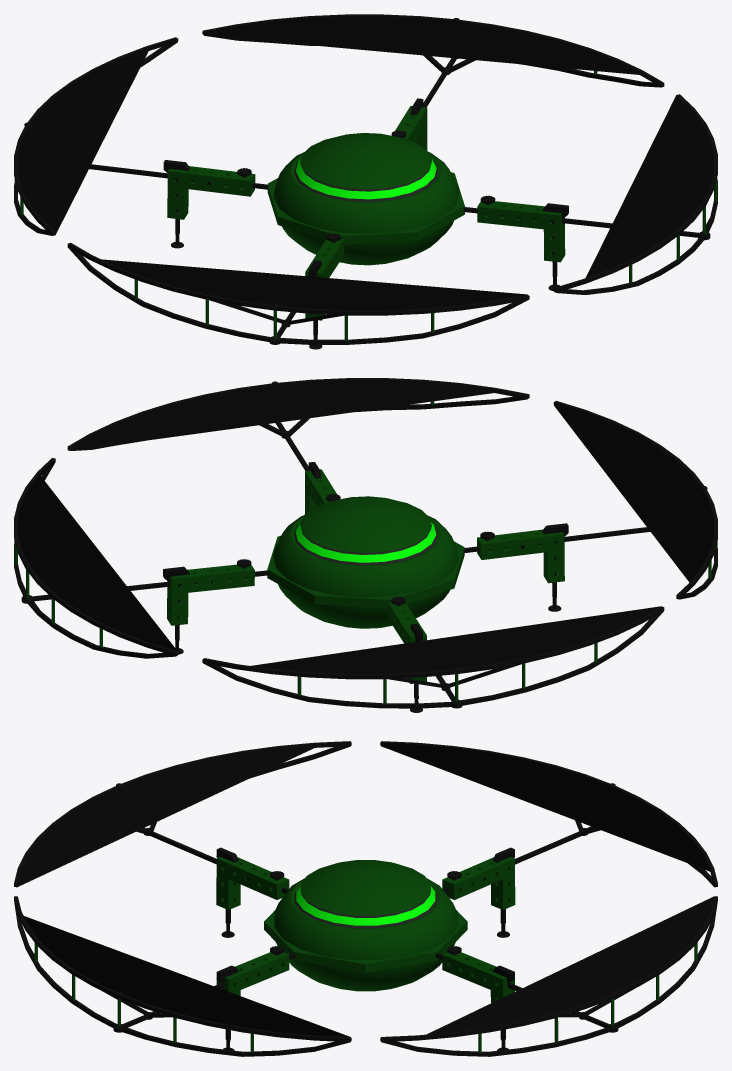
The model's file is camo_drone.obj.
3 views of the same model, one above another, from view 1: azimuth 30°, elevation 25°; view 2: azimuth 150°, elevation 25°; view 3: azimuth 270°, elevation 25° (orthographic).
Parts seen in each view (by area): view 1: polySurface341 polySurface565, polySurface341 polySurface479, polySurface341 polySurface467, polySurface341 polySurface569, polySurface341 polySurface581, polySurface341 polySurface466, polySurface341 polySurface563, polySurface341 polySurface580, polySurface341 polySurface478, polySurface341 polySurface568; view 2: polySurface341 polySurface565, polySurface341 polySurface581, polySurface341 polySurface569, polySurface341 polySurface467, polySurface341 polySurface479, polySurface341 polySurface568, polySurface341 polySurface563, polySurface341 polySurface478, polySurface341 polySurface580; view 3: polySurface341 polySurface565, polySurface341 polySurface569, polySurface341 polySurface467, polySurface341 polySurface479, polySurface341 polySurface581, polySurface341 polySurface563, polySurface341 polySurface478, polySurface341 polySurface580.
Boxes of the visible parts, x1,y1,x2,y2 form: polySurface341 polySurface565: (273,133,458,265); polySurface341 polySurface479: (202,14,664,86); polySurface341 polySurface467: (67,242,529,315); polySurface341 polySurface569: (14,37,177,235); polySurface341 polySurface581: (554,94,717,292); polySurface341 polySurface466: (68,247,529,344); polySurface341 polySurface563: (267,172,464,244); polySurface341 polySurface580: (553,179,717,294); polySurface341 polySurface478: (202,32,664,87); polySurface341 polySurface568: (14,39,178,235); polySurface341 polySurface565: (273,496,458,628); polySurface341 polySurface581: (67,378,529,450); polySurface341 polySurface569: (202,606,664,679); polySurface341 polySurface467: (554,400,717,598); polySurface341 polySurface479: (14,458,178,655); polySurface341 polySurface568: (202,610,664,708); polySurface341 polySurface563: (267,535,464,608); polySurface341 polySurface478: (14,463,178,658); polySurface341 polySurface580: (67,396,529,450); polySurface341 polySurface565: (274,860,457,991); polySurface341 polySurface569: (380,741,717,885); polySurface341 polySurface467: (14,741,351,886); polySurface341 polySurface479: (380,896,717,1041); polySurface341 polySurface581: (14,896,351,1041); polySurface341 polySurface563: (264,910,467,972); polySurface341 polySurface478: (380,898,717,1056); polySurface341 polySurface580: (14,902,351,1056).
Bounding box in the file's own units: 108 × 20.39 × 108.
